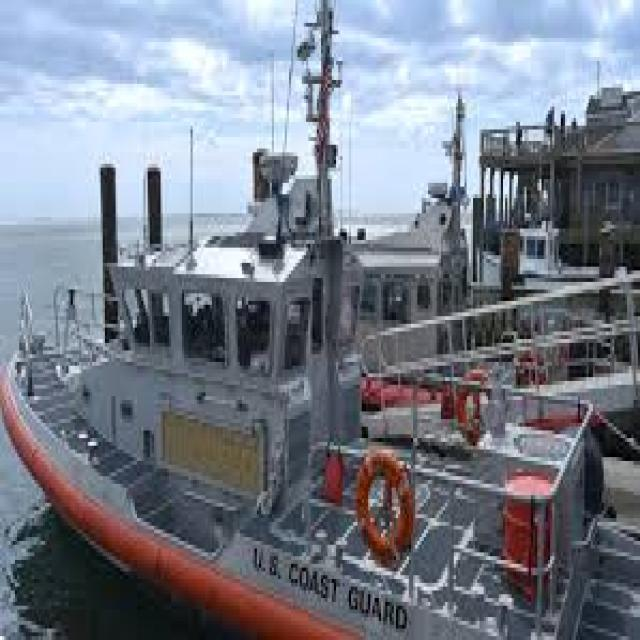fishing boat: (16, 193, 584, 637)
